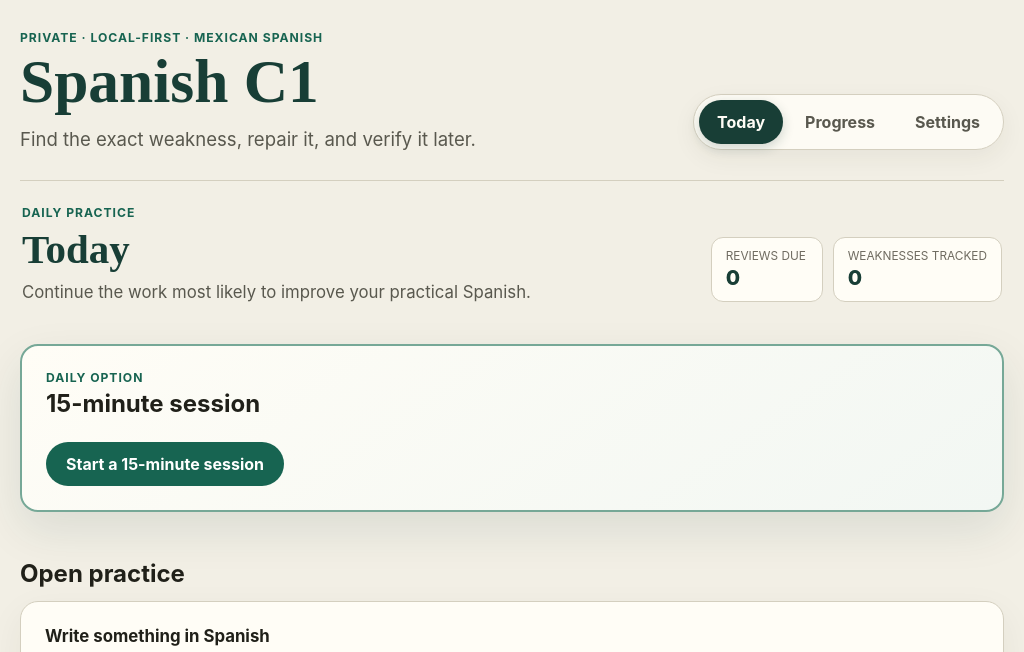
15-minute desktop session UI › keeps a local AI connection failure understandable in Settings
The image size is (1024, 652).
Click the button "Settings" at point(948, 122), box [897,100,998,144]
(page scrolled)
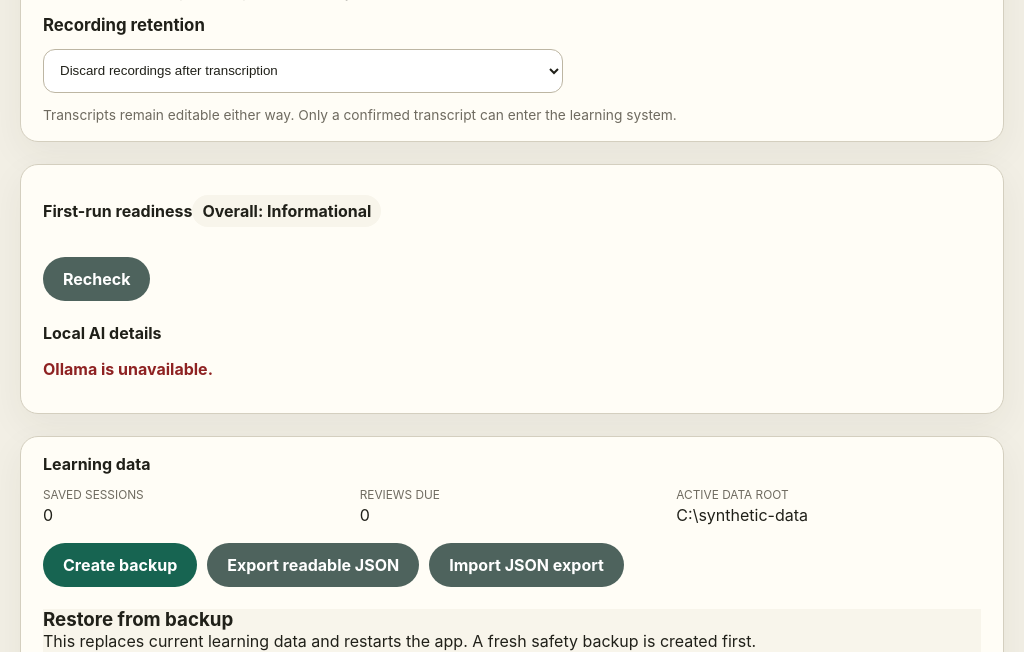
Now the message reads "Ollama is unavailable.", box [43,358,213,378]
